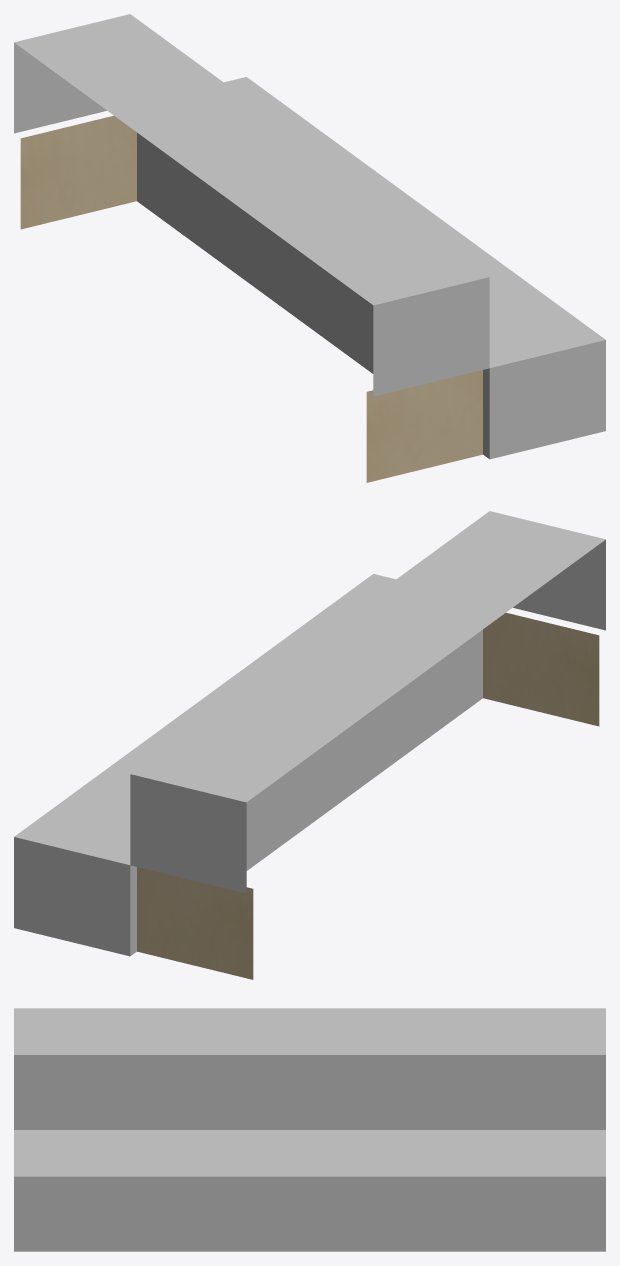
Rendered from MOD_Stair_02.fbx.
3 renders of one model, top to bottom at view 1: azimuth 30°, elevation 25°; view 2: azimuth 150°, elevation 25°; view 3: azimuth 270°, elevation 25°, orthographic. The views are drawn at different scales.
Visible parts, largest first — view 1: Stair_02; view 2: Stair_02; view 3: Stair_02.
Boxes of the visible parts, left/top/right/bottom form: Stair_02: left=14, top=14, right=605, bottom=482; Stair_02: left=14, top=511, right=605, bottom=979; Stair_02: left=14, top=1008, right=605, bottom=1251.
Bounding box in the file's own units: 27.39 × 73.33 × 20.52.
